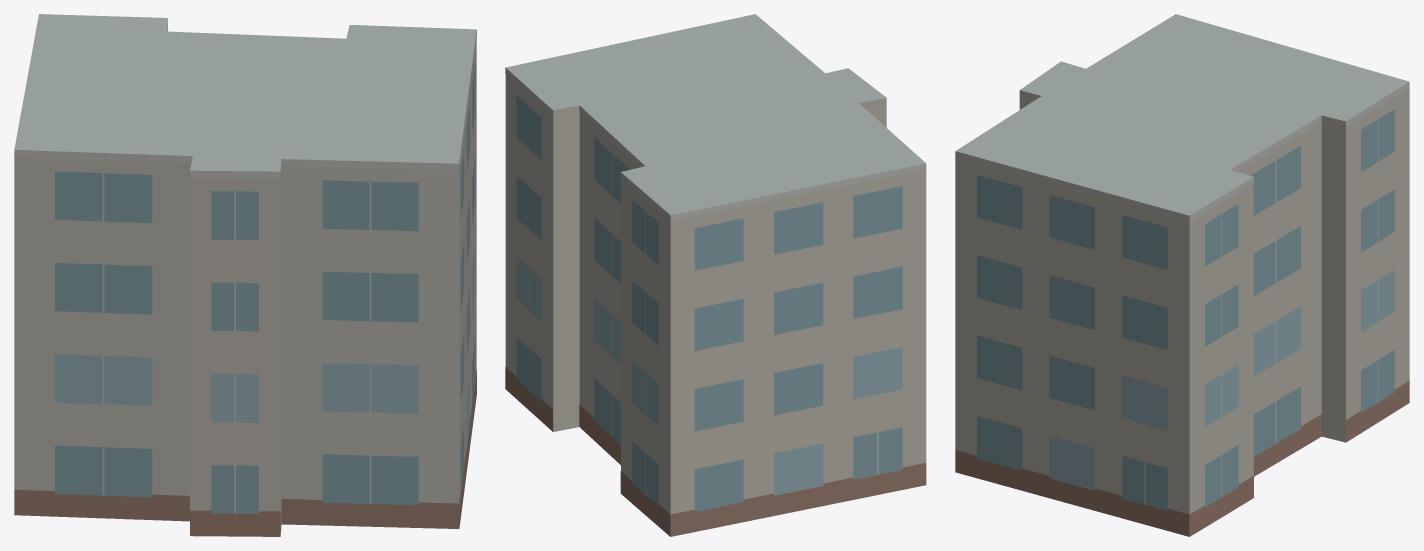
The model's file is survey-upis-33006771.glb.
The picture shows the model from 3 angles, left to right: view 1: azimuth 30°, elevation 25°; view 2: azimuth 150°, elevation 25°; view 3: azimuth 270°, elevation 25°; orthographic projection. The views are drawn at different scales.
Visible parts, largest first — view 1: survey-upis-33006771.tmp; view 2: survey-upis-33006771.tmp; view 3: survey-upis-33006771.tmp.
Boxes of the visible parts, x1=… form: survey-upis-33006771.tmp: x1=14, y1=14, x2=476, y2=536; survey-upis-33006771.tmp: x1=505, y1=14, x2=926, y2=536; survey-upis-33006771.tmp: x1=955, y1=14, x2=1409, y2=536.
Bounding box in the file's own units: 17.25 × 12.8 × 16.42.
